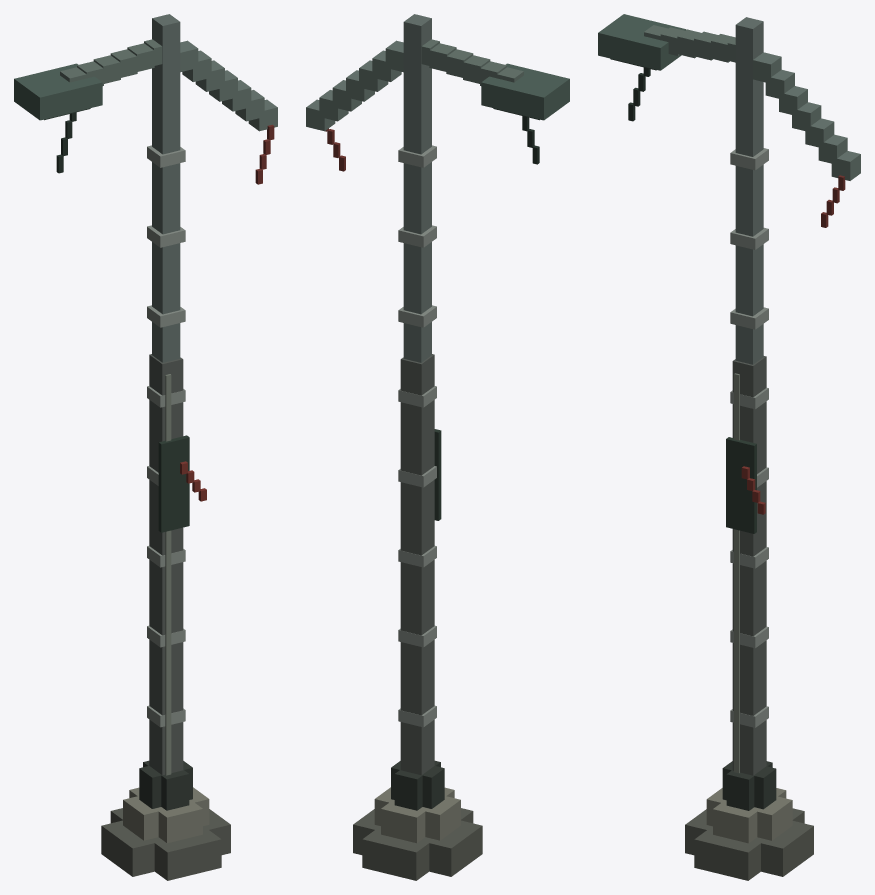
File: CMU3DBrokenStreetlight.glb
The picture shows the model from 3 angles, left to right: view 1: azimuth 30°, elevation 25°; view 2: azimuth 150°, elevation 25°; view 3: azimuth 330°, elevation 25°; orthographic projection.
Visible parts, largest first — view 1: steel mast, streetlight upper mast, octagonal foot (×3), unlit left housing, raised plinth (×2), broken mast access hatch, mast highlight, bent broken right arm (×4), dark post root (×2), mast clamp (×3); view 2: steel mast, streetlight upper mast, octagonal foot (×3), unlit left housing, bent broken right arm (×6), raised plinth (×2), dark post root (×2), mast clamp (×3), broken mast access hatch; view 3: steel mast, streetlight upper mast, octagonal foot (×3), bent broken right arm (×7), unlit left housing, raised plinth (×2), broken mast access hatch, dark post root (×2), mast highlight, mast clamp (×3).
Part boxes in pixels (<box>): steel mast: <box>149,354,183,775</box>; streetlight upper mast: <box>152,14,180,362</box>; octagonal foot (×3): <box>101,808,230,880</box>; unlit left housing: <box>14,63,102,120</box>; raised plinth (×2): <box>123,787,202,843</box>; broken mast access hatch: <box>158,435,189,532</box>; mast highlight: <box>165,374,171,775</box>; bent broken right arm (×4): <box>182,50,264,121</box>; dark post root (×2): <box>139,760,189,810</box>; mast clamp (×3): <box>147,145,185,327</box>; steel mast: <box>400,354,434,775</box>; streetlight upper mast: <box>403,14,431,362</box>; octagonal foot (×3): <box>353,808,482,880</box>; unlit left housing: <box>481,63,569,120</box>; bent broken right arm (×6): <box>306,50,401,131</box>; raised plinth (×2): <box>381,787,460,843</box>; dark post root (×2): <box>394,760,444,810</box>; mast clamp (×3): <box>398,145,436,327</box>; broken mast access hatch: <box>434,429,441,520</box>; steel mast: <box>732,356,766,775</box>; streetlight upper mast: <box>735,17,763,364</box>; octagonal foot (×3): <box>685,808,813,880</box>; bent broken right arm (×7): <box>752,52,860,180</box>; unlit left housing: <box>598,14,686,70</box>; raised plinth (×2): <box>713,788,792,843</box>; broken mast access hatch: <box>726,437,756,533</box>; dark post root (×2): <box>726,761,776,810</box>; mast highlight: <box>734,373,739,773</box>; mast clamp (×3): <box>730,148,768,329</box>.
Size of the model in its own units: 0.8997 by 2.92 by 0.36.
